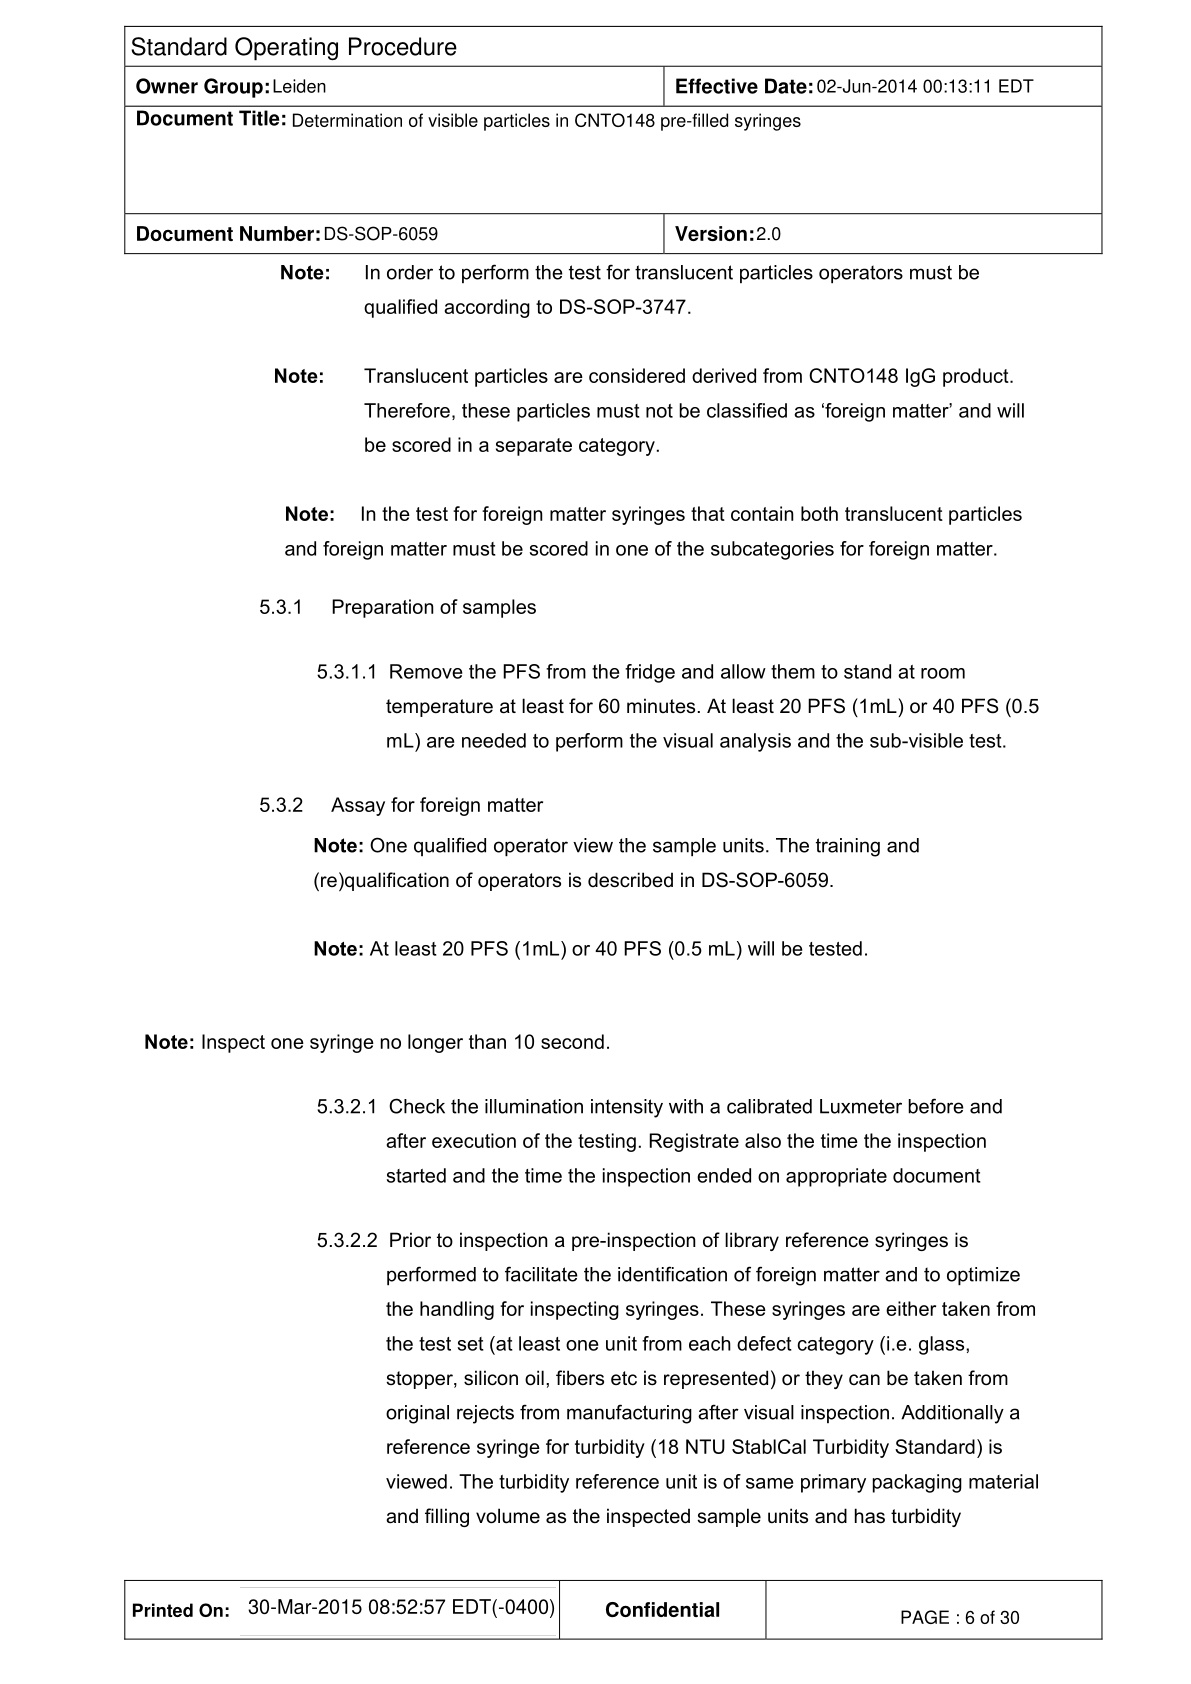full_lined: (122, 1578, 1103, 1640)
merged_cells: (122, 24, 1103, 255)
